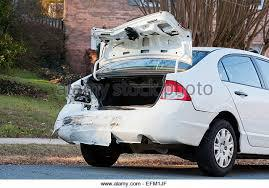rear-bumper-dent: (59, 104, 145, 144)
